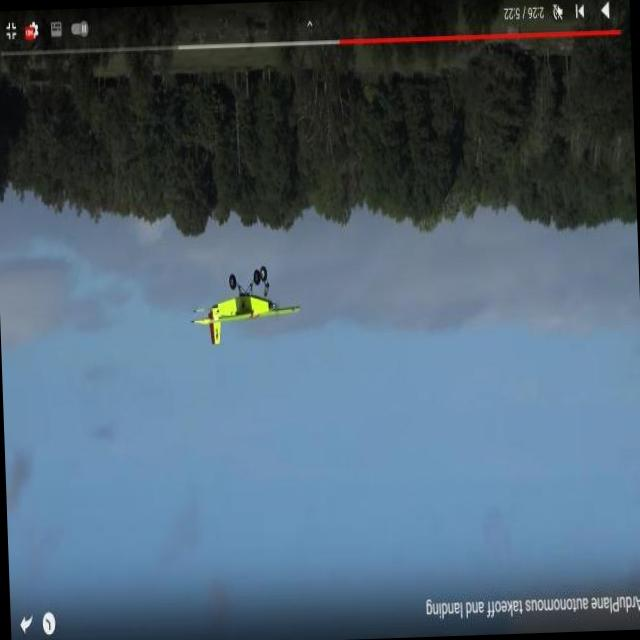UAV: (188, 264, 290, 344)
